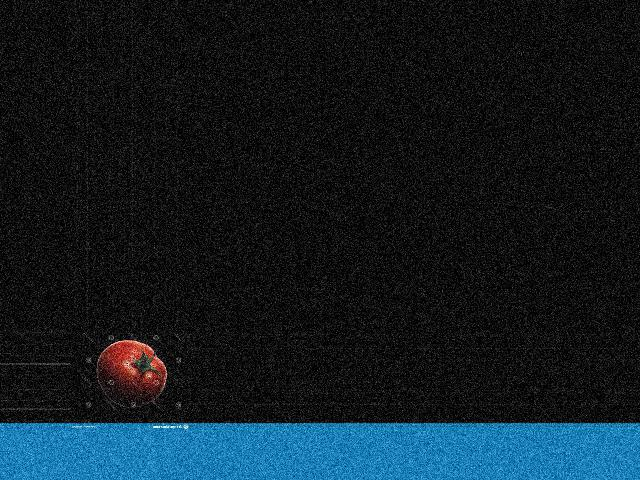tomato: (95, 340, 166, 407)
